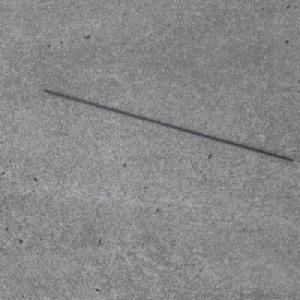LuggagePart: (41, 87, 296, 162)
